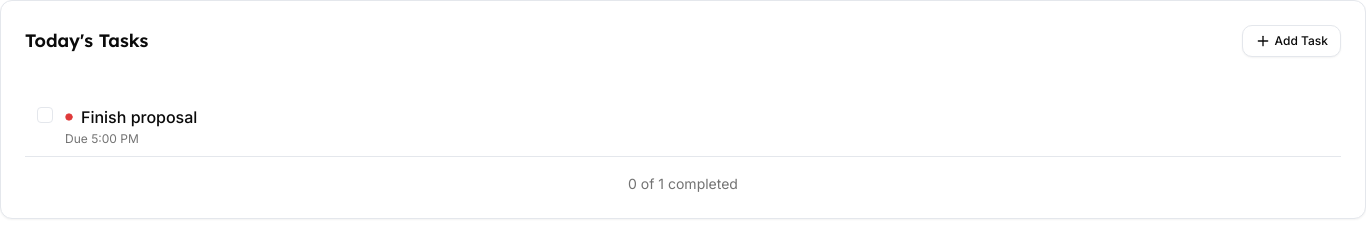
TasksToday › reflection strip › dismisses reflection strip immediately when emoji is clicked
The image size is (1366, 246).
What coordinates should you click on to do the following:
click the checkbox
I would click on:
 (45, 115)
Its box is [37,107,53,123].
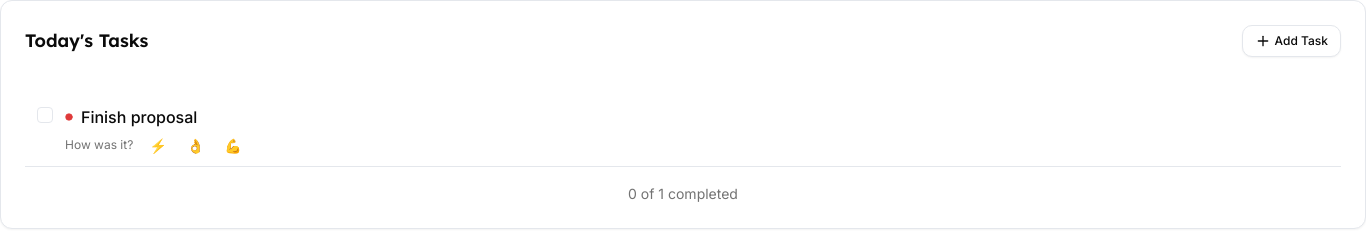
Check: the text "How was it?" is shown, box [65,137,133,154]
What coordinates should you click on to do the following:
click the button titled "Easy"
I would click on:
 (158, 146)
Its box is [141,133,175,158].
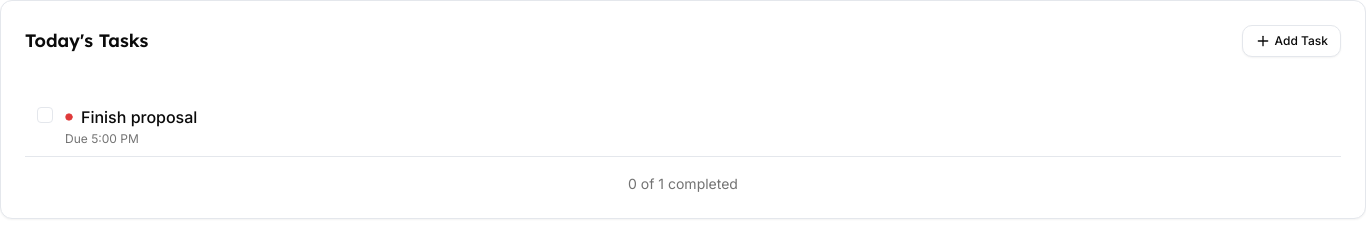
Check: the text "How was it?" is gone
